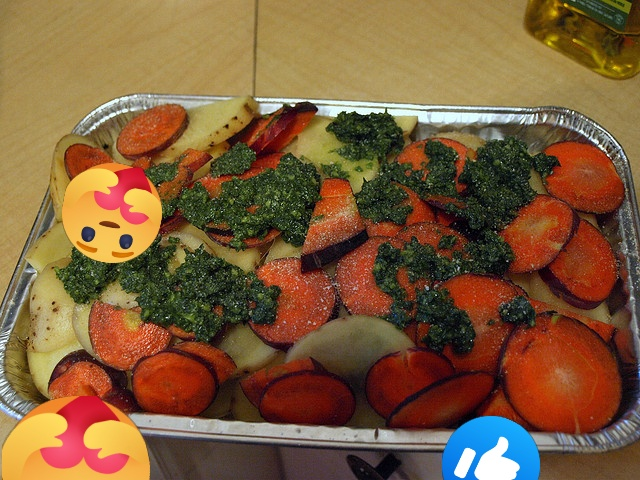care: (2, 396, 150, 480), (62, 163, 162, 263)
like: (442, 416, 540, 480)
